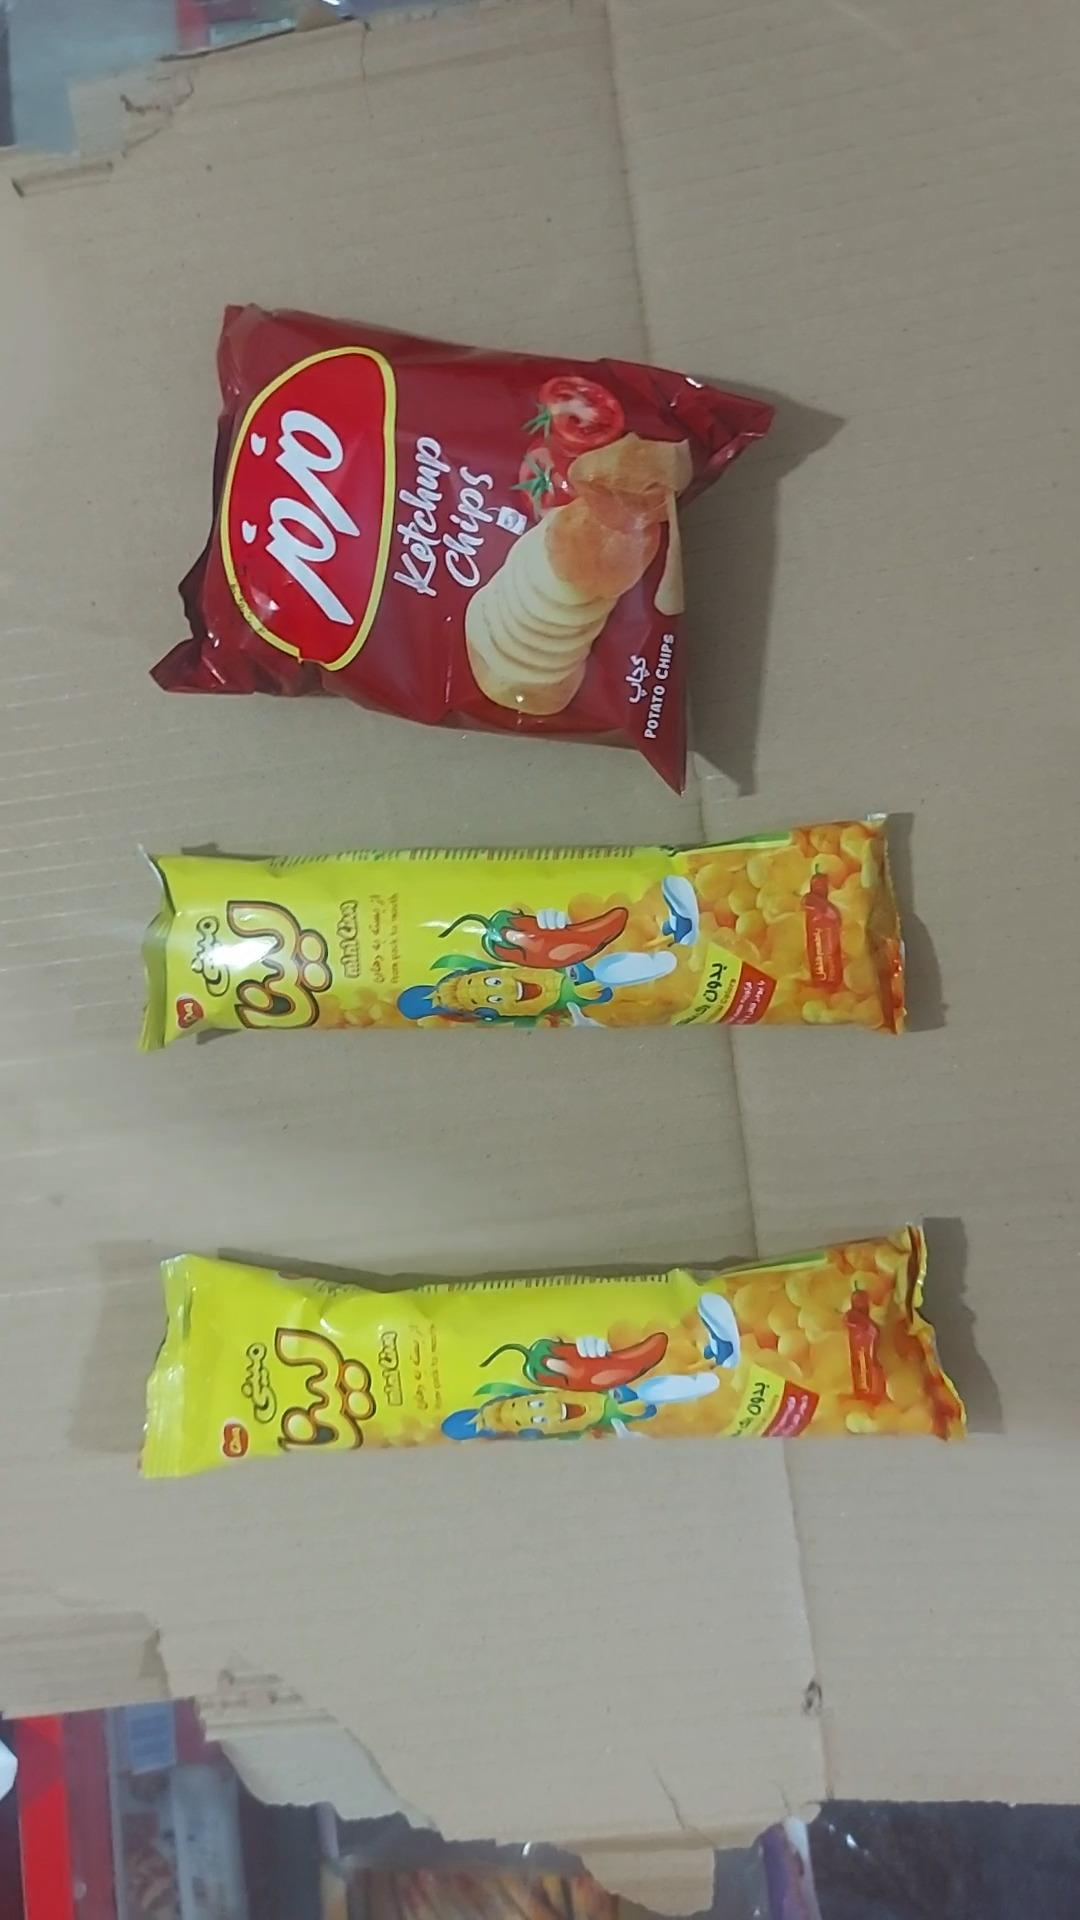Maz Maz ketchup chips: (153, 307, 773, 789)
Mini Lina: (140, 1226, 967, 1476), (140, 820, 905, 1048)
